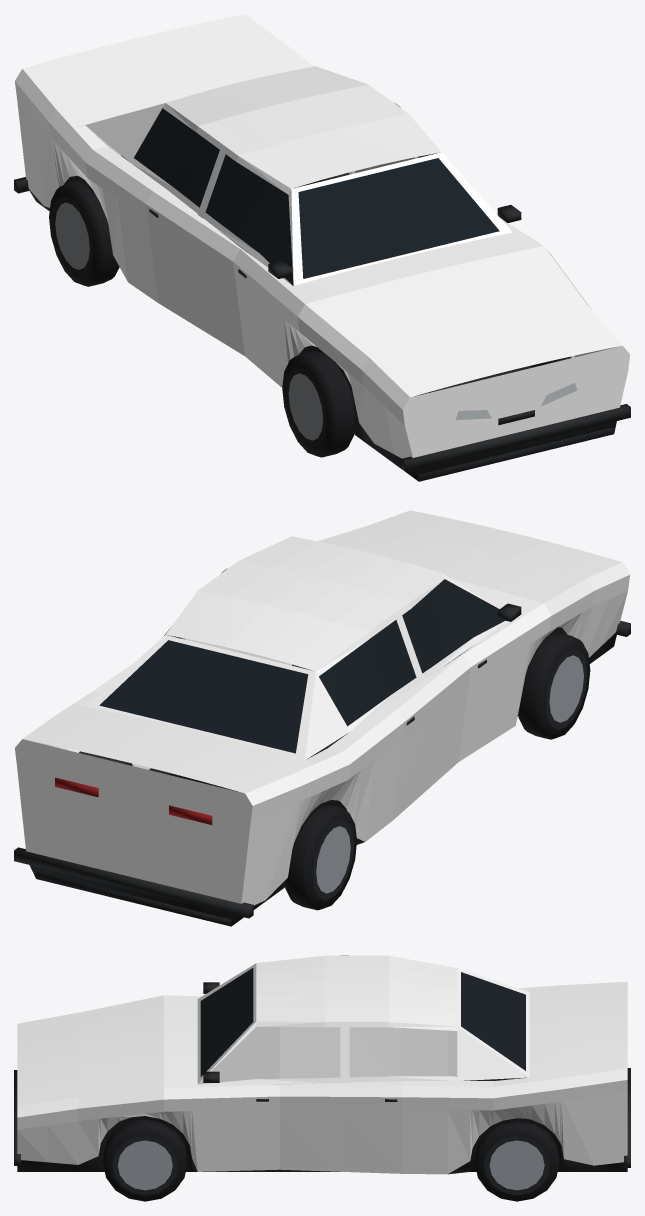
File: volnar_decano.glb
3 renders of one model, top to bottom at view 1: azimuth 30°, elevation 25°; view 2: azimuth 150°, elevation 25°; view 3: azimuth 270°, elevation 25°, orthographic. The views are drawn at different scales.
Parts seen in each view (by area): view 1: Body_Paint, Body_Details, Mount_FrontLeft_Wheel_Details, Mount_RearLeft_Wheel_Details; view 2: Body_Paint, Body_Details, Mount_FrontLeft_Wheel_Details, Mount_RearLeft_Wheel_Details; view 3: Body_Paint, Body_Details, Mount_FrontRight_Wheel_Details, Mount_RearRight_Wheel_Details.
Boxes of the visible parts, x1,y1,x2,y2 form: Body_Paint: [15, 14, 629, 458]; Body_Details: [14, 108, 630, 481]; Mount_FrontLeft_Wheel_Details: [282, 351, 355, 457]; Mount_RearLeft_Wheel_Details: [49, 180, 119, 286]; Body_Paint: [15, 510, 629, 905]; Body_Details: [14, 579, 630, 926]; Mount_FrontLeft_Wheel_Details: [518, 632, 590, 739]; Mount_RearLeft_Wheel_Details: [284, 805, 356, 910]; Body_Paint: [17, 955, 627, 1174]; Body_Details: [14, 968, 630, 1174]; Mount_FrontRight_Wheel_Details: [103, 1119, 187, 1201]; Mount_RearRight_Wheel_Details: [474, 1121, 559, 1201].
Size of the model in its own units: 1.95 by 1.47 by 4.95.
Materials: 2 (1 with a texture image).
